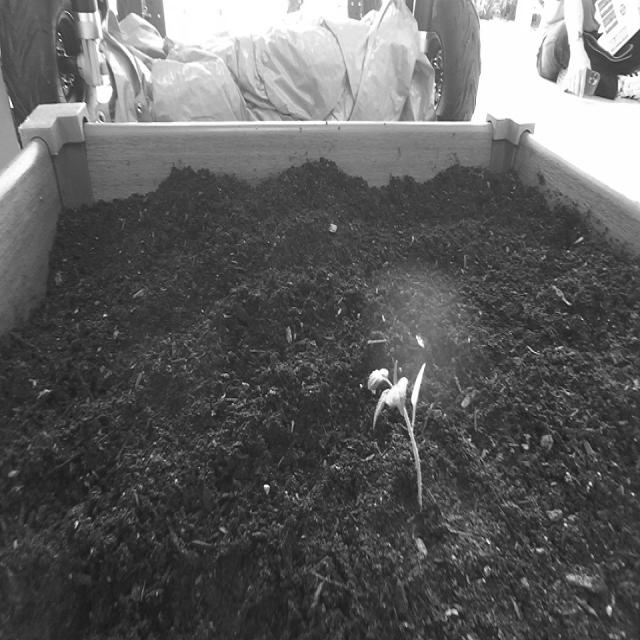Healthy: (364, 354, 432, 516)
